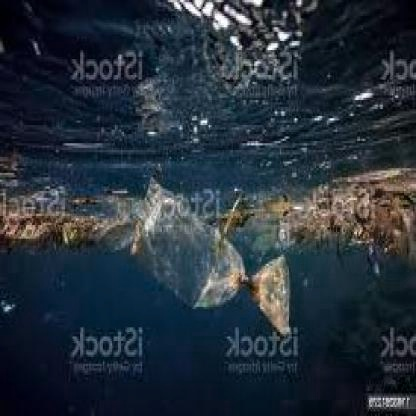pbag: (121, 173, 297, 343)
